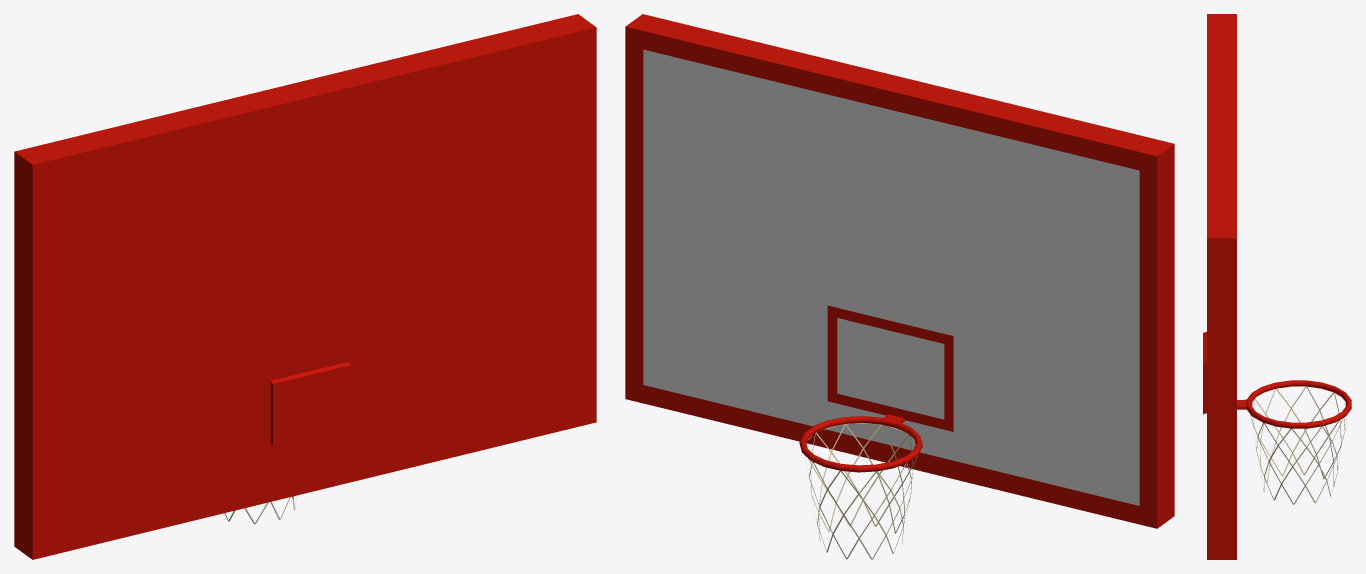
The picture shows the model from 3 angles, left to right: view 1: azimuth 30°, elevation 25°; view 2: azimuth 150°, elevation 25°; view 3: azimuth 270°, elevation 25°; orthographic projection. The views are drawn at different scales.
Visible parts, largest first — view 1: Cube; view 2: Cube, Torus.001, Torus; view 3: Cube, Torus.001, Torus.
Part boxes in pixels (box(x1,y1,x2,y2)): Cube: box(14, 14, 596, 559); Cube: box(625, 14, 1174, 528); Torus.001: box(804, 423, 917, 559); Torus: box(799, 414, 922, 472); Cube: box(1203, 14, 1236, 559); Torus.001: box(1250, 386, 1347, 504); Torus: box(1237, 380, 1351, 428).
Size of the model in its own units: 448 by 342 by 126.
